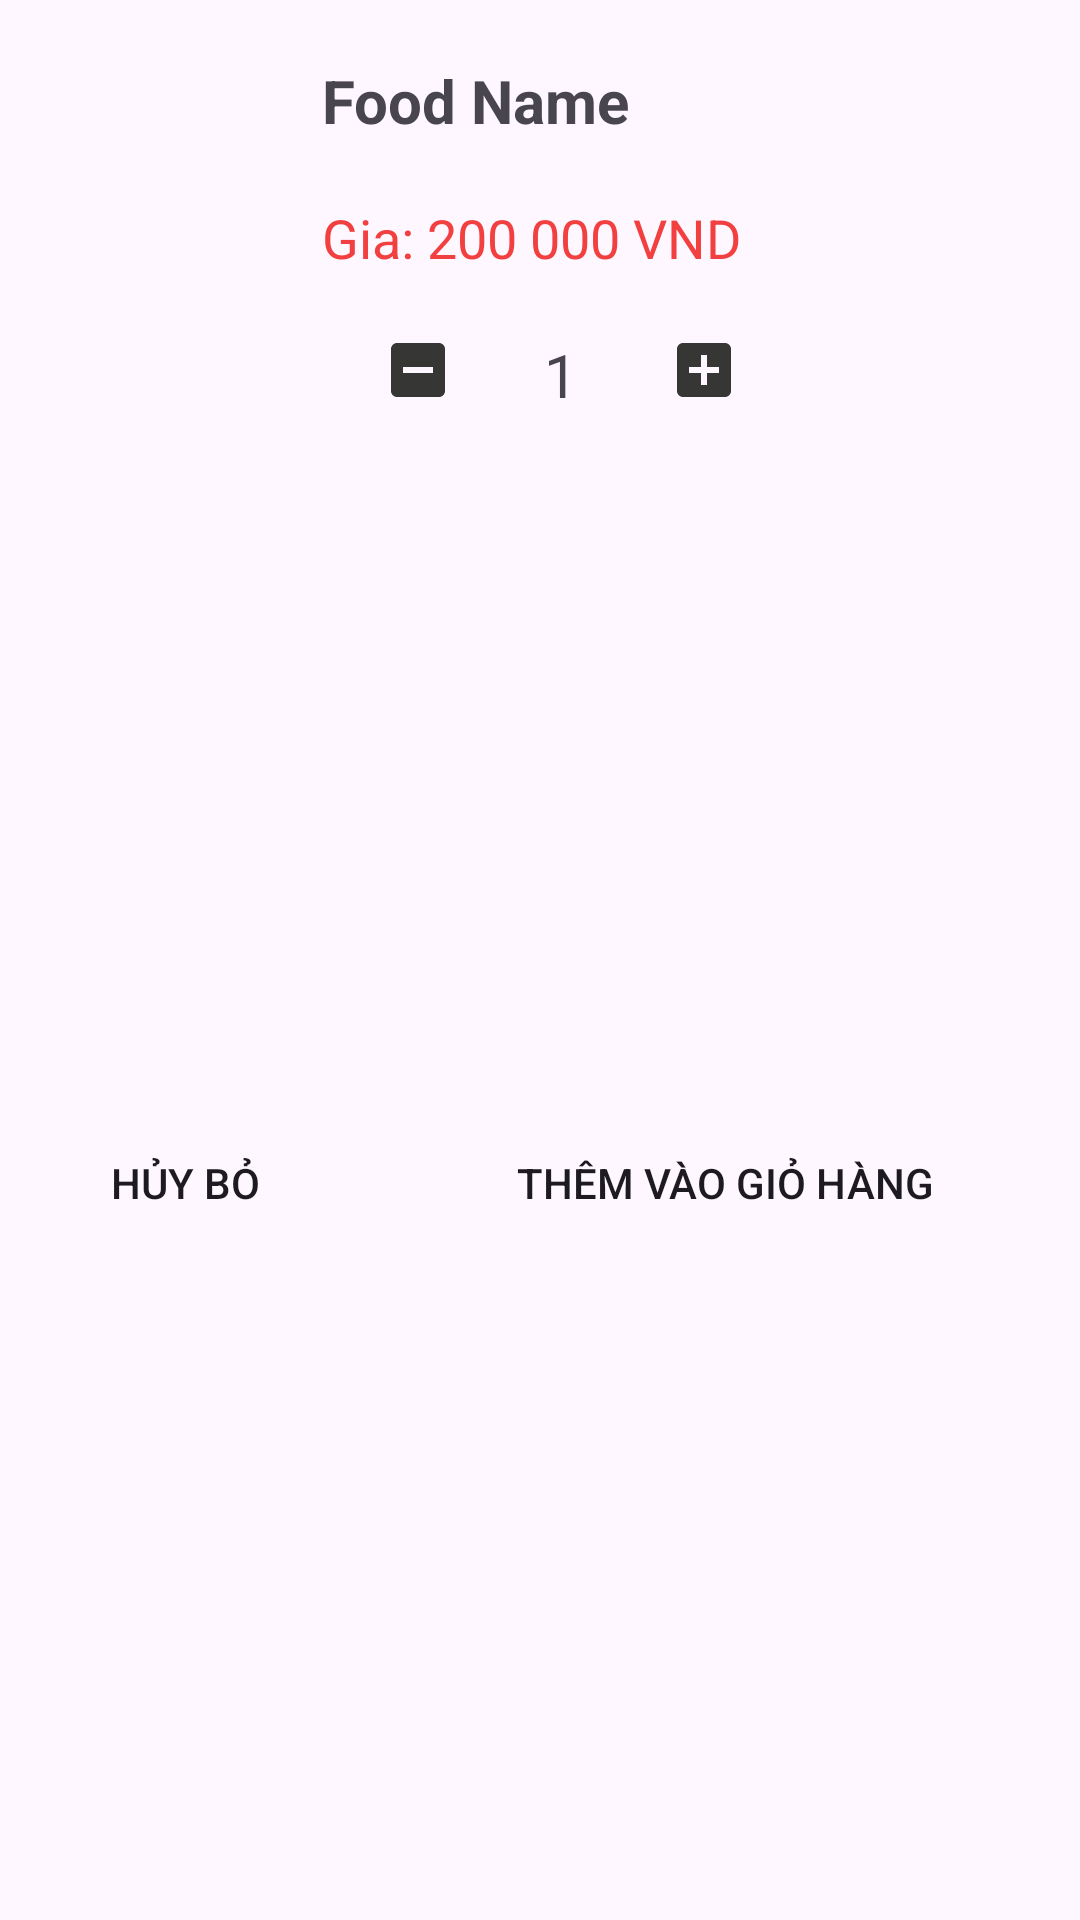

Icons on this 1080w x 1920h Android screen, each with the point to tap as point (x, y):
add box: point (704, 370)
indeterminate check box: point (418, 370)
